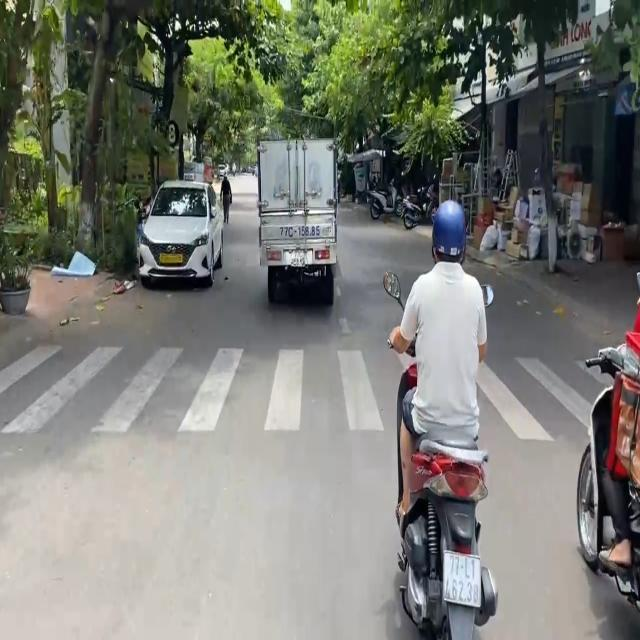walk-crossing: (0, 341, 640, 444)
